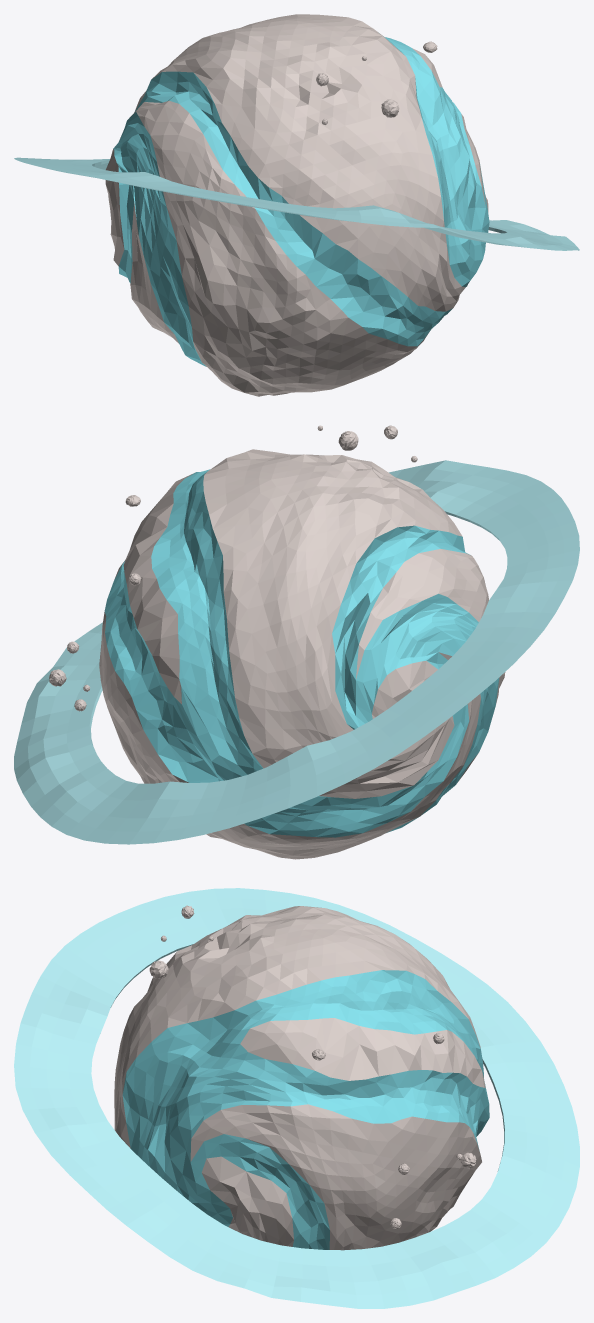
File: PlanetBigFlatRing.glb
3 renders of one model, top to bottom at view 1: azimuth 30°, elevation 25°; view 2: azimuth 150°, elevation 25°; view 3: azimuth 270°, elevation 25°, orthographic. The views are drawn at different scales.
Visible parts, largest first — view 1: Planet_40; view 2: Planet_40; view 3: Planet_40.
Part boxes in pixels (x1=…): Planet_40: x1=14, y1=14, x2=579, y2=396; Planet_40: x1=14, y1=425, x2=579, y2=859; Planet_40: x1=14, y1=888, x2=579, y2=1308.
Bounding box in the file's own units: 29.38 × 20.83 × 30.16.
1 material, 1 textured.
